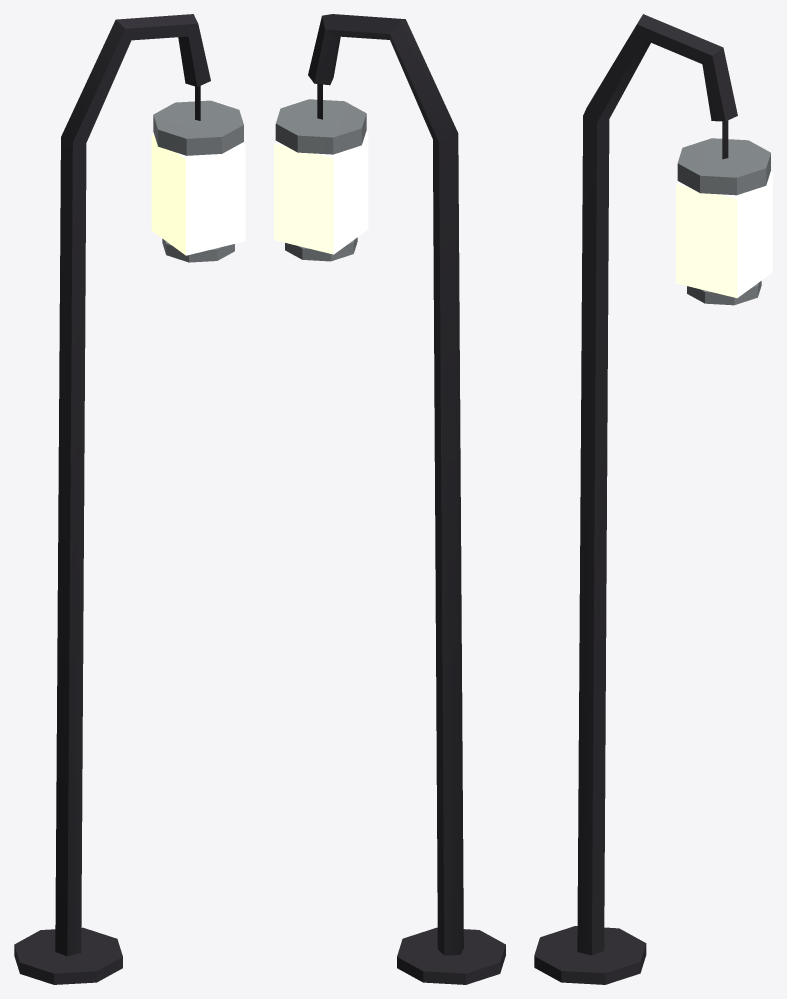
File: curb_porch_light.glb
3 views of the same model, side by side, from view 1: azimuth 30°, elevation 25°; view 2: azimuth 150°, elevation 25°; view 3: azimuth 330°, elevation 25° (orthographic). The views are drawn at different scales.
Parts seen in each view (by area): view 1: curb_porch_light, glow; view 2: curb_porch_light, glow; view 3: curb_porch_light, glow.
Boxes of the visible parts, x1,y1,x2,y2 form: curb_porch_light: (14,14,243,984); glow: (151,133,245,255); curb_porch_light: (275,14,505,984); glow: (274,132,368,254); curb_porch_light: (534,14,770,984); glow: (676,172,772,298).
Size of the model in its own units: 0.405 by 1.64 by 0.18.
